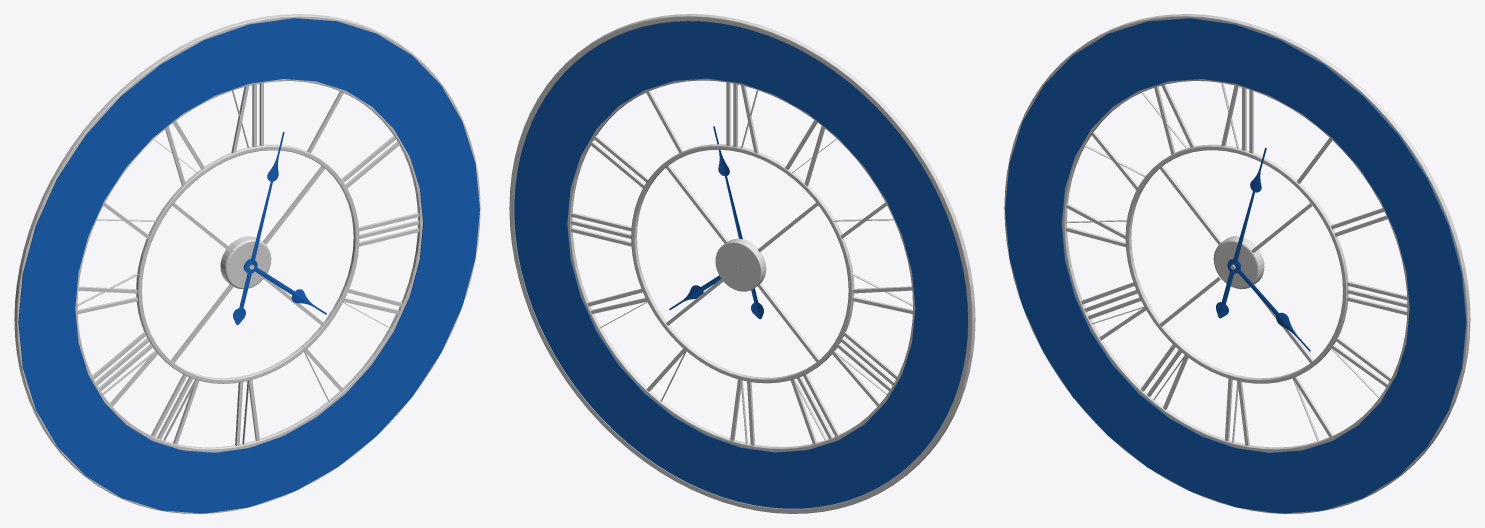
File: saatimiz.fbx
3 renders of one model, left to right at view 1: azimuth 30°, elevation 25°; view 2: azimuth 150°, elevation 25°; view 3: azimuth 330°, elevation 25°, orthographic.
Parts seen in each view (by area): view 1: _yeni, sayılar, saat; view 2: _yeni, sayılar, saat; view 3: _yeni, sayılar, saat.
Part boxes in pixels (<box>): _yeni: <box>18,18,479,513</box>; sayılar: <box>14,14,480,513</box>; saat: <box>233,132,326,324</box>; _yeni: <box>514,21,967,508</box>; sayılar: <box>509,14,975,513</box>; saat: <box>669,126,763,319</box>; _yeni: <box>1005,18,1466,513</box>; sayılar: <box>1004,14,1470,513</box>; saat: <box>1216,147,1310,351</box>.
Bounding box in the file's own units: 345 × 345 × 11.8.
